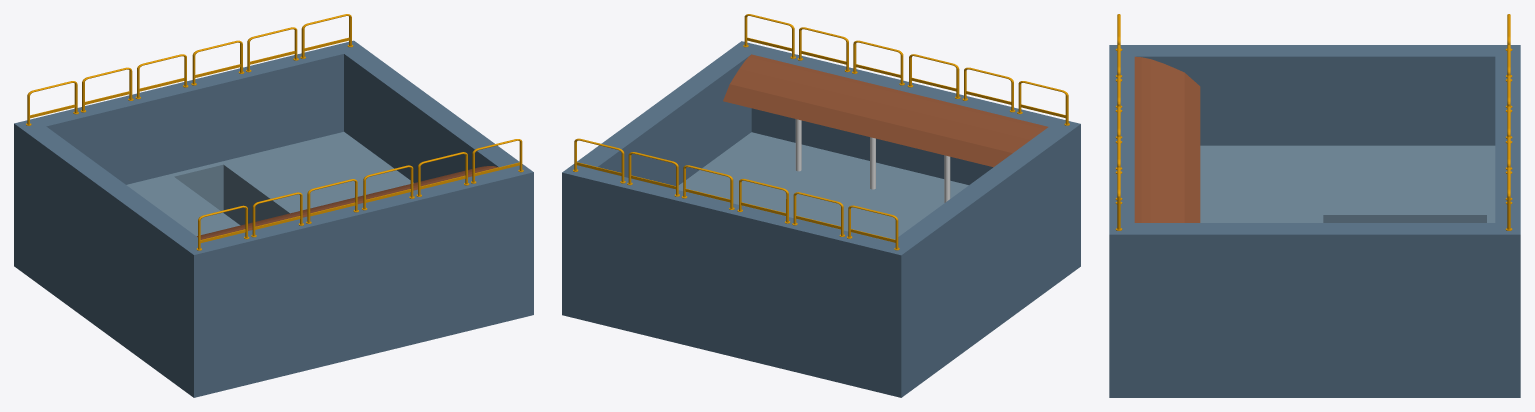
File: wavetank_1.dae
3 renders of one model, left to right at view 1: azimuth 30°, elevation 25°; view 2: azimuth 150°, elevation 25°; view 3: azimuth 270°, elevation 25°, orthographic. The views are drawn at different scales.
Parts seen in each view (by area): view 1: Cube, Cube.002, Plane, Plane.003, Plane.006, Plane.009, Plane.004, Plane.011, Plane.005, Plane.001, Plane.012, Plane.008 (+3 smaller); view 2: Cube, Plane, Cube.002, Plane.006, Plane.002, Plane.001, Plane.012, Plane.009, Plane.011, Plane.003, Plane.008, Plane.005 (+3 smaller); view 3: Cube, Cube.002, Plane.
Part boxes in pixels (left/top/right/bottom): Cube: left=14, top=40, right=533, bottom=397; Cube.002: left=126, top=132, right=413, bottom=236; Plane: left=197, top=166, right=497, bottom=239; Plane.003: left=246, top=27, right=298, bottom=72; Plane.006: left=362, top=165, right=414, bottom=210; Plane.009: left=191, top=40, right=244, bottom=85; Plane.004: left=251, top=192, right=303, bottom=237; Plane.011: left=80, top=67, right=133, bottom=112; Plane.005: left=306, top=179, right=358, bottom=223; Plane.001: left=300, top=14, right=353, bottom=58; Plane.012: left=26, top=81, right=78, bottom=125; Plane.008: left=471, top=139, right=523, bottom=183; Cube: left=562, top=41, right=1080, bottom=397; Plane: left=723, top=54, right=1048, bottom=167; Cube.002: left=674, top=132, right=968, bottom=241; Plane.006: left=852, top=40, right=904, bottom=85; Plane.002: left=1017, top=81, right=1069, bottom=125; Plane.001: left=573, top=138, right=625, bottom=183; Plane.012: left=847, top=205, right=899, bottom=250; Plane.009: left=681, top=165, right=734, bottom=209; Plane.011: left=792, top=192, right=844, bottom=236; Plane.003: left=627, top=152, right=679, bottom=196; Plane.008: left=743, top=14, right=795, bottom=58; Plane.005: left=907, top=54, right=960, bottom=98; Cube: left=1109, top=45, right=1520, bottom=397; Cube.002: left=1200, top=145, right=1495, bottom=222; Plane: left=1134, top=56, right=1200, bottom=222.
Bounding box in the file's own units: 13.7 × 12.56 × 6.78.
